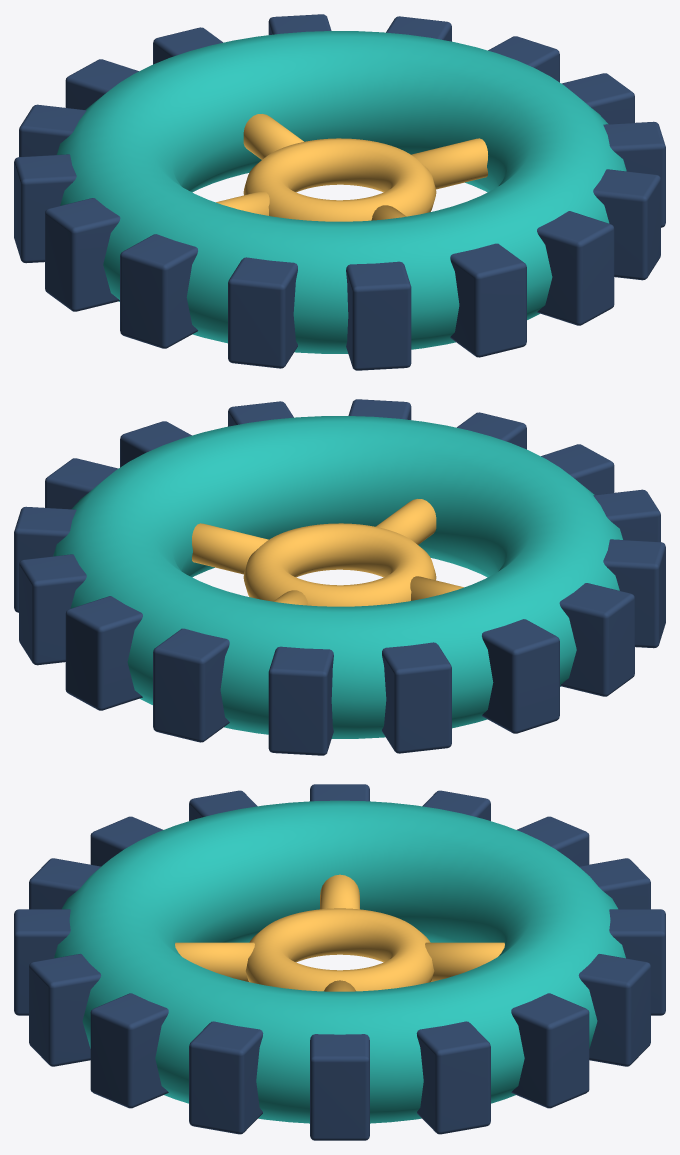
Rendered from spur-gear-quality.glb.
The picture shows the model from 3 angles, top to bottom: view 1: azimuth 30°, elevation 25°; view 2: azimuth 150°, elevation 25°; view 3: azimuth 270°, elevation 25°; orthographic projection.
Parts seen in each view (by area): view 1: Gear rim; view 2: Gear rim; view 3: Gear rim.
Part boxes in pixels (bbox=[...]): Gear rim: bbox=[14, 14, 665, 370]; Gear rim: bbox=[14, 399, 665, 755]; Gear rim: bbox=[14, 784, 665, 1140].
Size of the model in its own units: 1.96 by 0.4 by 1.96.
